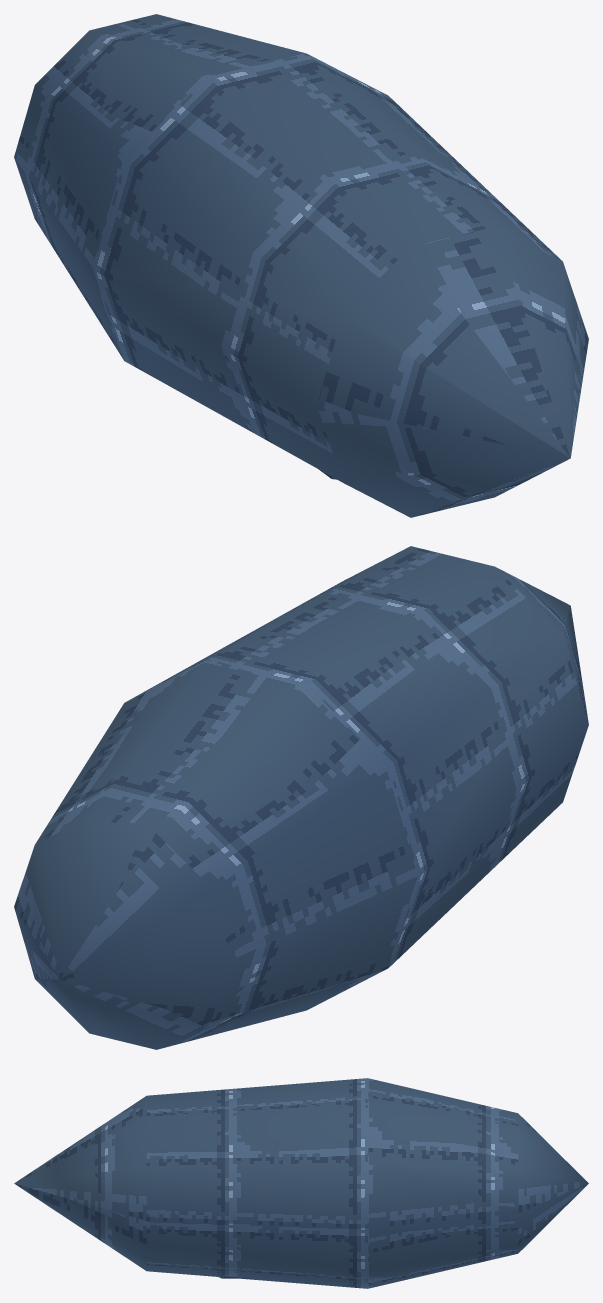
The model's file is cysky.airship.glb.
3 views of the same model, one above another, from view 1: azimuth 30°, elevation 25°; view 2: azimuth 150°, elevation 25°; view 3: azimuth 270°, elevation 25° (orthographic). The views are drawn at different scales.
Parts seen in each view (by area): view 1: kit_body; view 2: kit_body; view 3: kit_body.
Boxes of the visible parts, x1,y1,x2,y2 form: kit_body: [14, 14, 588, 517]; kit_body: [14, 546, 588, 1049]; kit_body: [14, 1078, 588, 1288].
Size of the model in its own units: 2.4 by 2.28 by 6.5.
3 materials, 3 textured.
